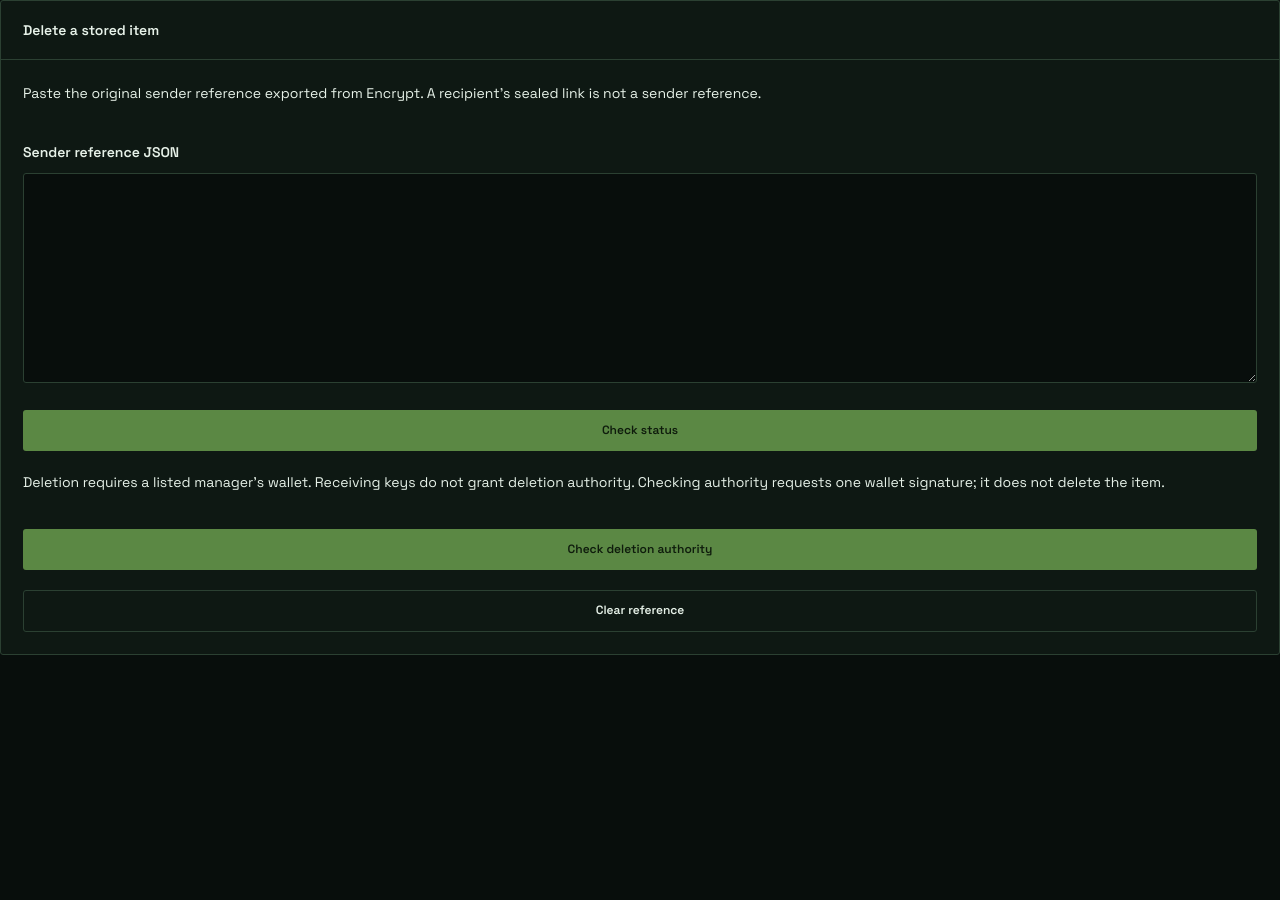
reviews the original seed and exact manager index; Cancel never submits deletion
In the text box labelled "Sender reference JSON": (640, 278) [23,173,1257,383], type "reference"
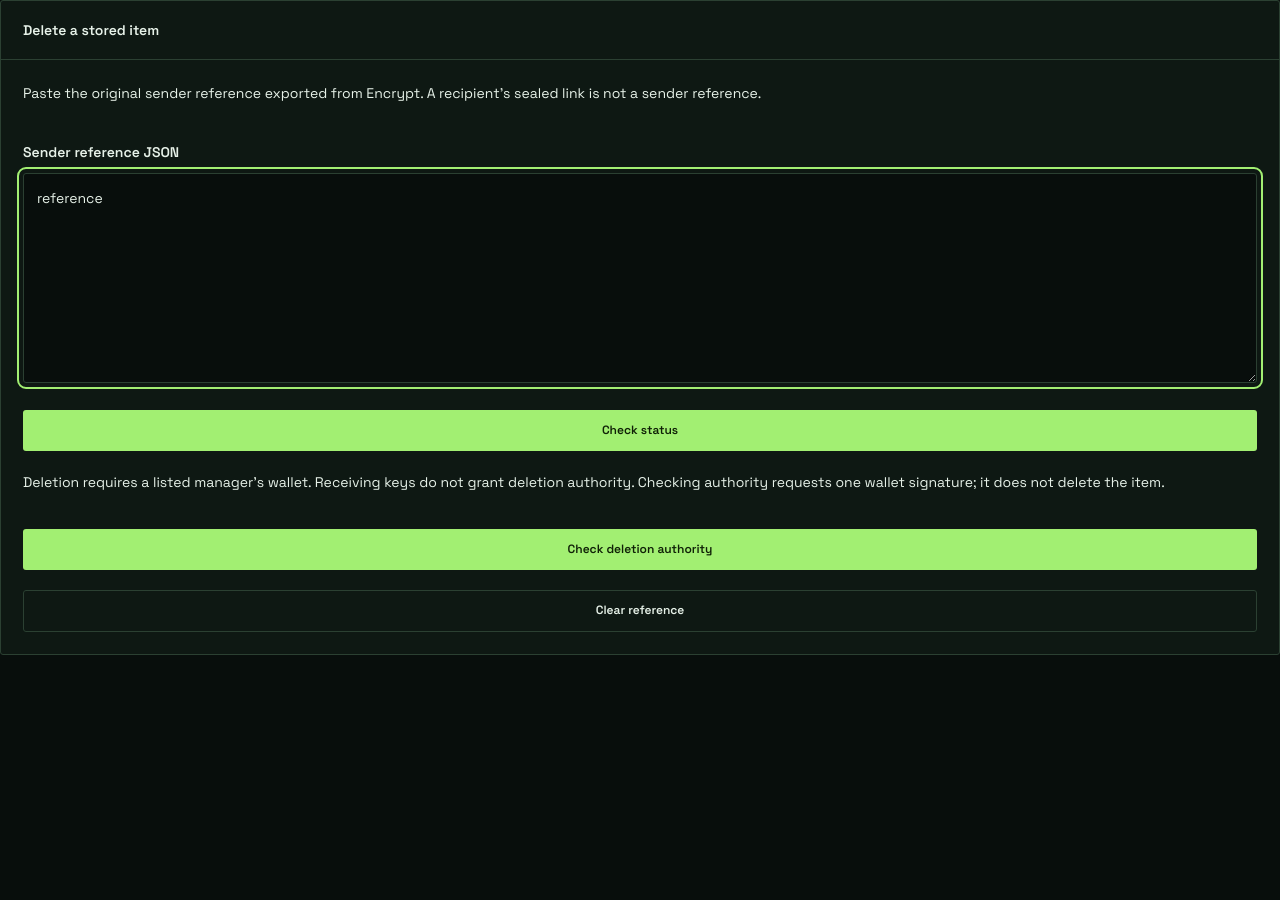
Click the button "Check deletion authority": (640, 550) [23,529,1257,570]
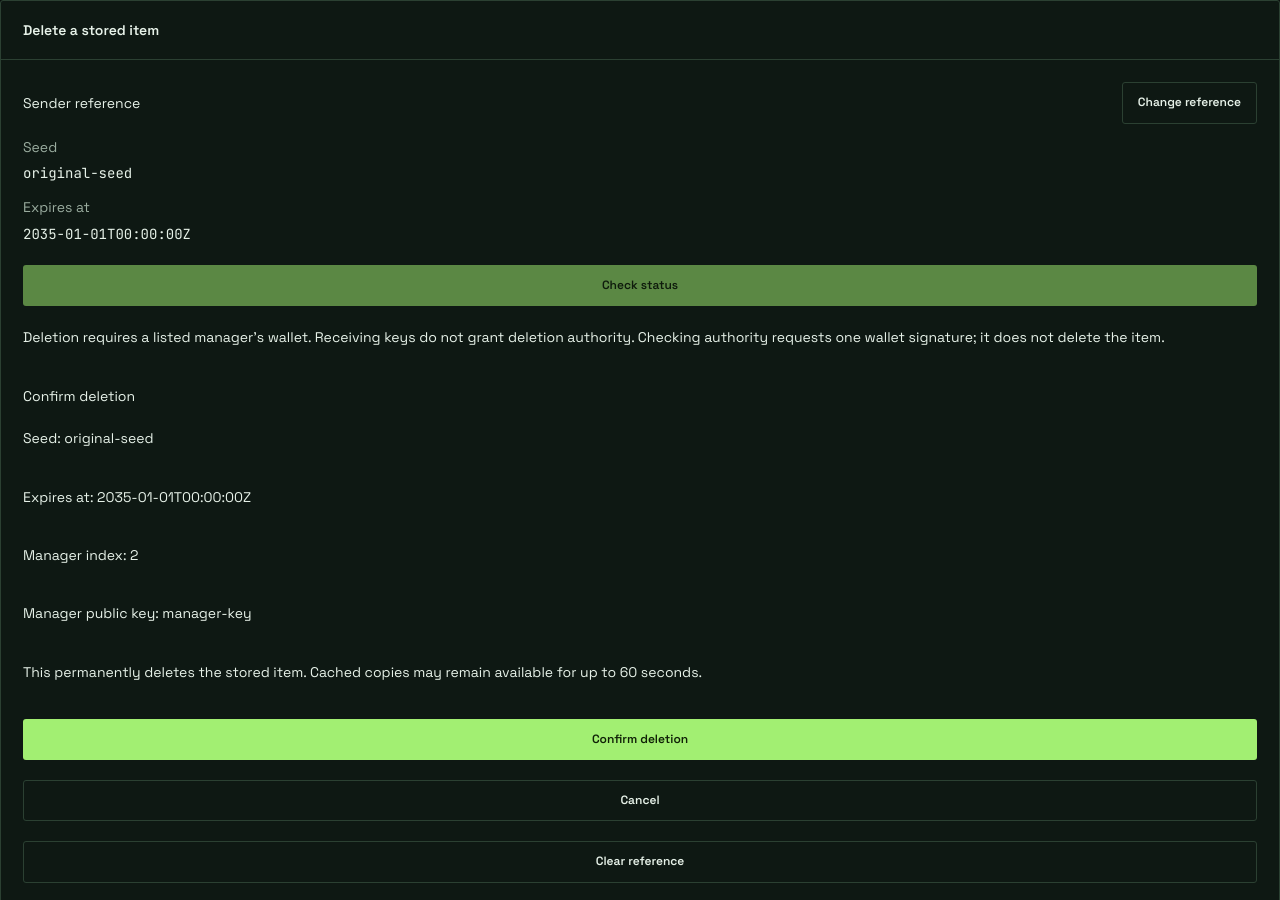
Result: the text "Seed: original-seed" is shown at [23,429,154,447]
Result: the text "Manager index: 2" is shown at [23,546,138,564]
Result: the label labelled "Sender reference JSON" is gone
Click the button "Cancel": (640, 801) [23,780,1257,822]
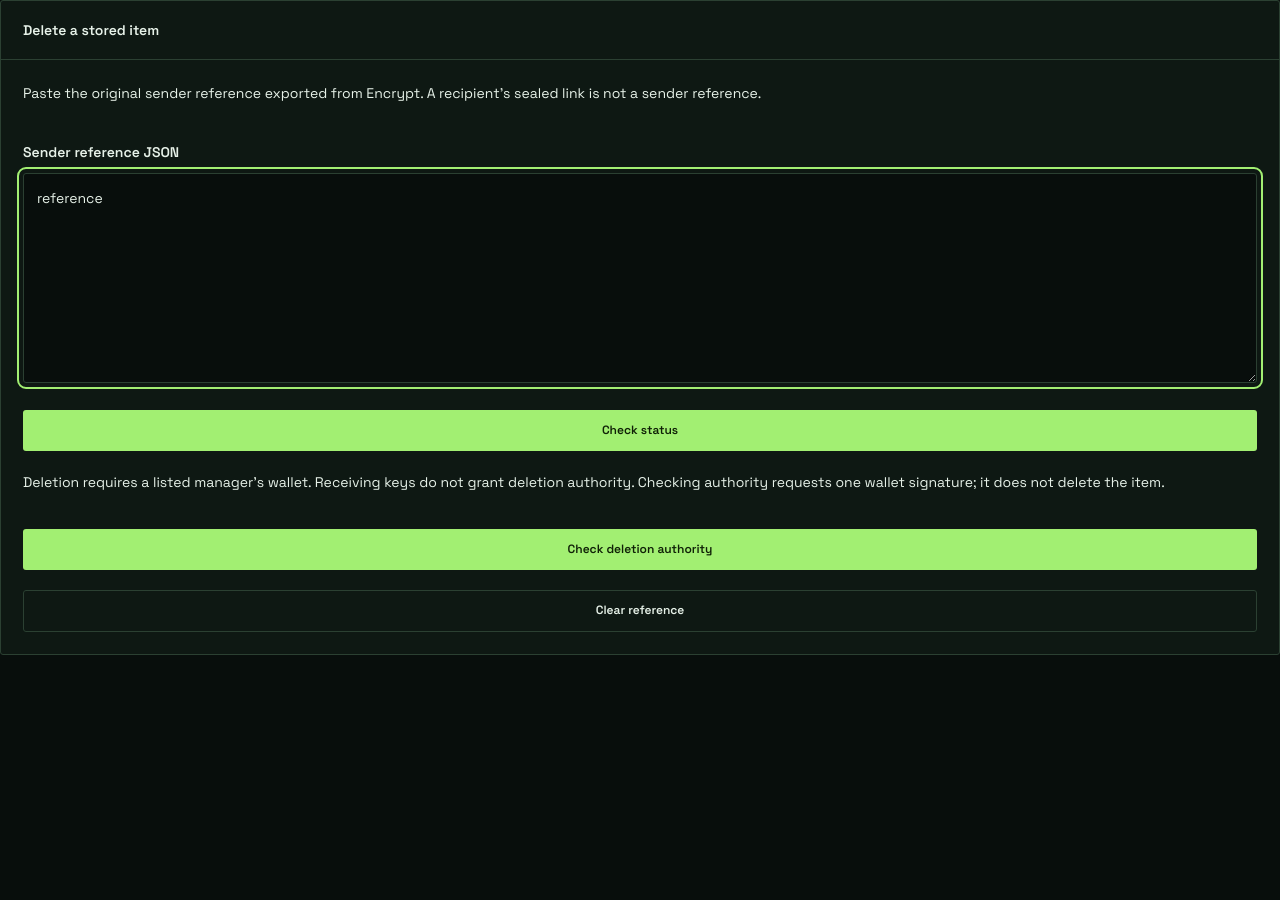
Click the button "Check deletion authority": (640, 550) [23,529,1257,570]
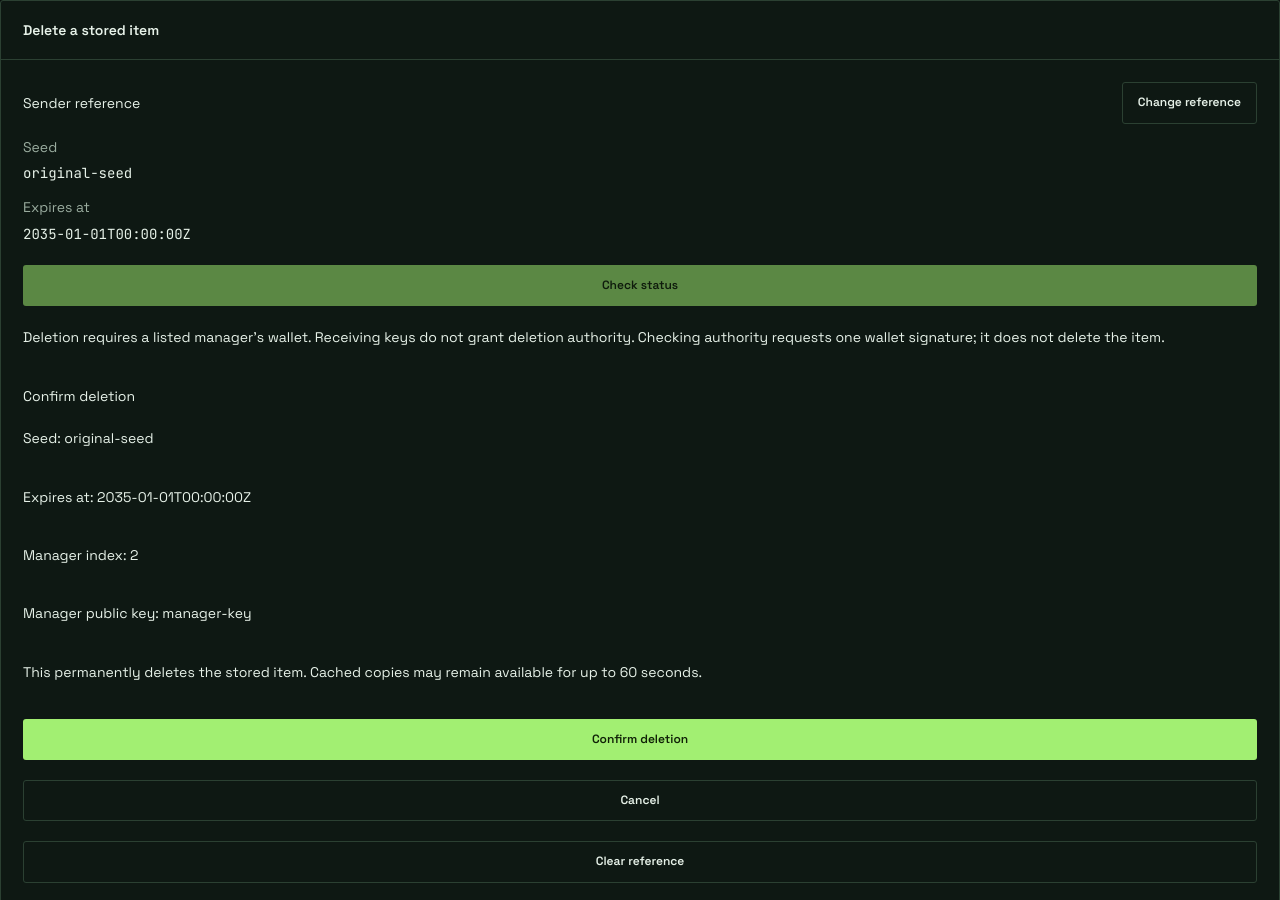
Result: the text "Seed: original-seed" is shown at [23,429,154,447]
